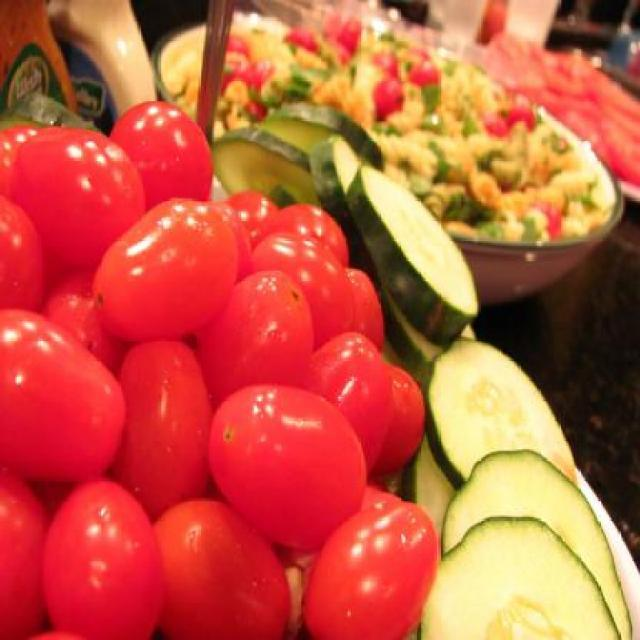Tomato: (209, 380, 365, 558), (0, 310, 129, 487), (90, 196, 238, 336), (304, 492, 444, 640), (38, 472, 160, 640), (153, 494, 289, 640), (109, 334, 211, 528), (9, 126, 148, 266), (198, 265, 314, 404), (308, 330, 397, 476), (110, 96, 215, 213), (251, 242, 357, 353), (36, 270, 136, 372), (0, 475, 54, 640), (374, 362, 428, 480), (0, 196, 45, 316), (271, 201, 347, 267), (228, 188, 282, 258), (0, 124, 48, 202), (348, 266, 386, 356)
